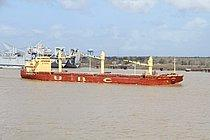Ship: (17, 54, 189, 90)
